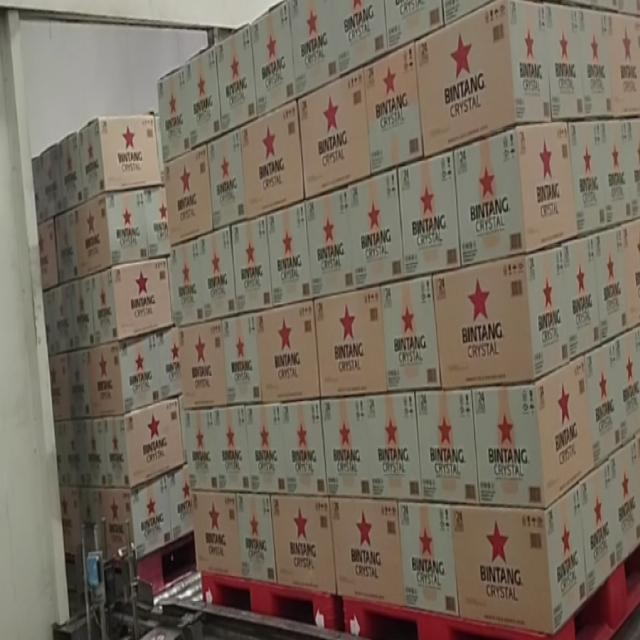pallet: (317, 0, 640, 640), (153, 0, 340, 640), (15, 89, 208, 611)
